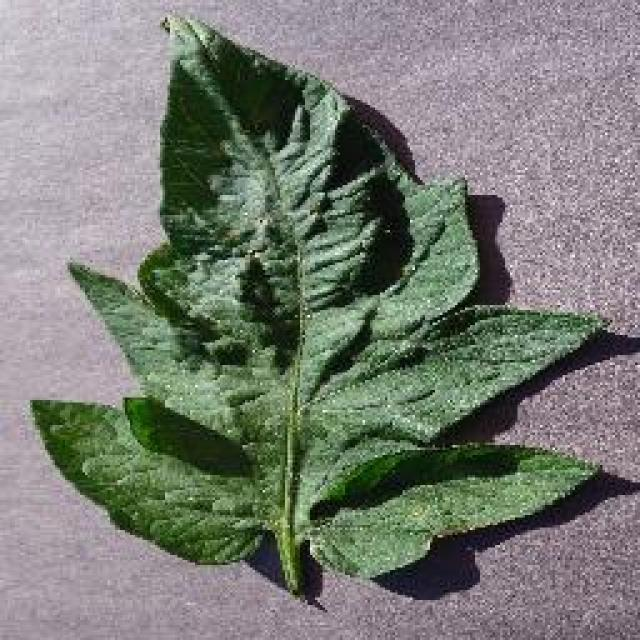Tomato Septoria spot leaf: (30, 6, 612, 586)
